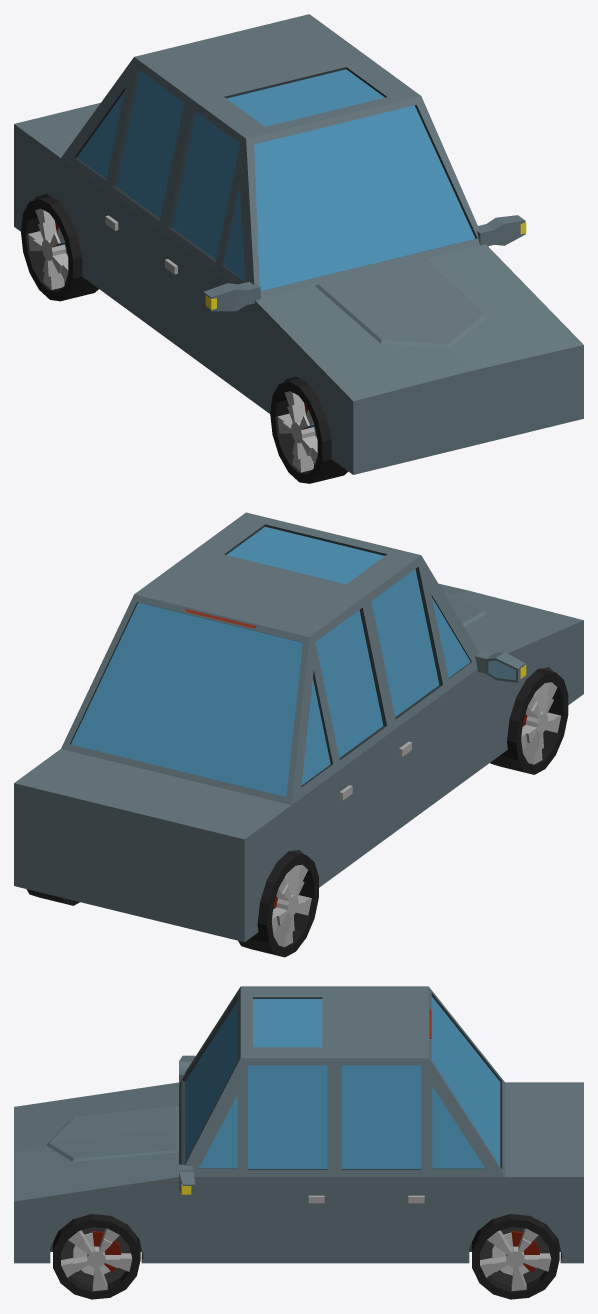
The model's file is carro_modificado.glb.
The picture shows the model from 3 angles, top to bottom: view 1: azimuth 30°, elevation 25°; view 2: azimuth 150°, elevation 25°; view 3: azimuth 270°, elevation 25°; orthographic projection. The views are drawn at different scales.
Parts seen in each view (by area): view 1: carro; view 2: carro; view 3: carro.
Boxes of the visible parts, bbox=[...] form: carro: bbox=[14, 14, 583, 483]; carro: bbox=[14, 512, 583, 957]; carro: bbox=[14, 986, 583, 1299].
Bounding box in the file's own units: 1.98 × 1.62 × 3.69.
Materials: 3 (3 with a texture image).
